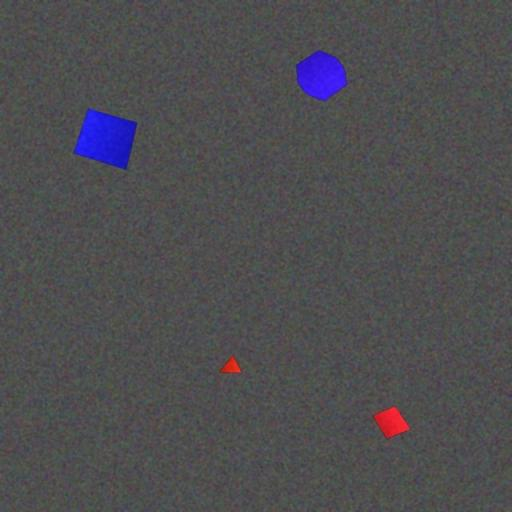BLUE_SQUARE: (72, 108, 138, 170)
RED_SQUARE: (371, 405, 412, 440)
